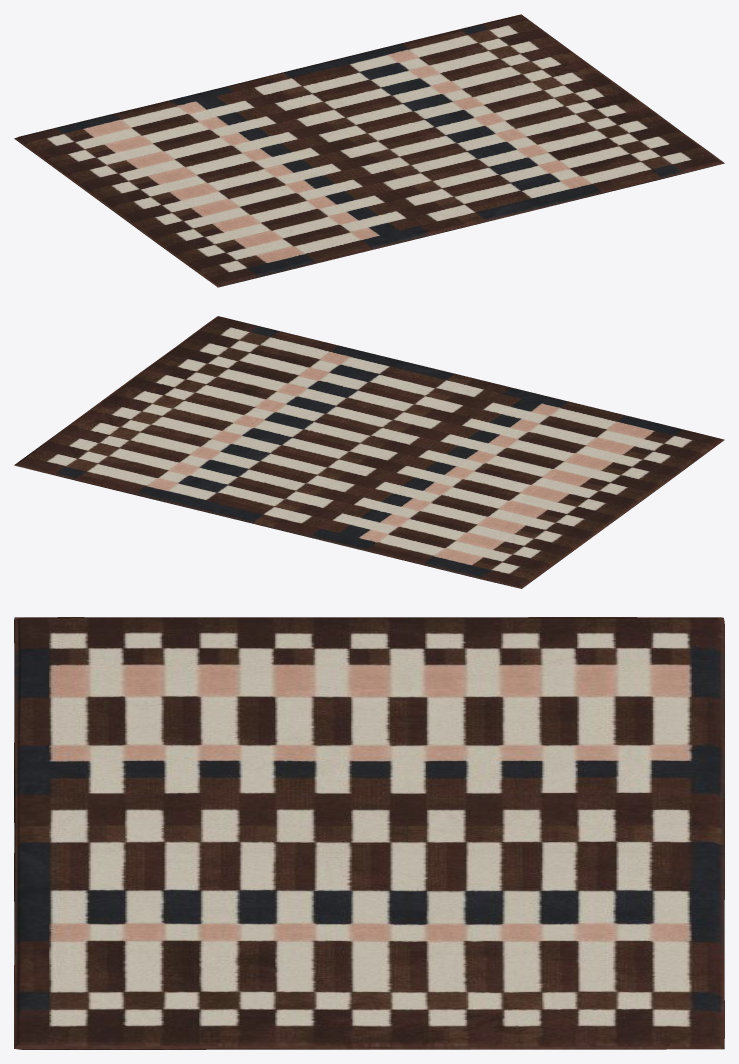
The model's file is 27 - MARKBLÅMME Rug, low pile - multicolourcheck pattern 160x230 cm.glb.
3 views of the same model, one above another, from view 1: azimuth 30°, elevation 25°; view 2: azimuth 150°, elevation 25°; view 3: azimuth 270°, elevation 25° (orthographic). The views are drawn at different scales.
Parts seen in each view (by area): view 1: ASY_ART_90625705_S01_NV01; view 2: ASY_ART_90625705_S01_NV01; view 3: ASY_ART_90625705_S01_NV01.
Part boxes in pixels (left/top/right/bottom): ASY_ART_90625705_S01_NV01: left=14, top=14, right=724, bottom=287; ASY_ART_90625705_S01_NV01: left=14, top=316, right=724, bottom=588; ASY_ART_90625705_S01_NV01: left=14, top=617, right=724, bottom=1049.
Bounding box in the file's own units: 2.3 × 0.0112 × 1.6.
Materials: 1 (1 with a texture image).
